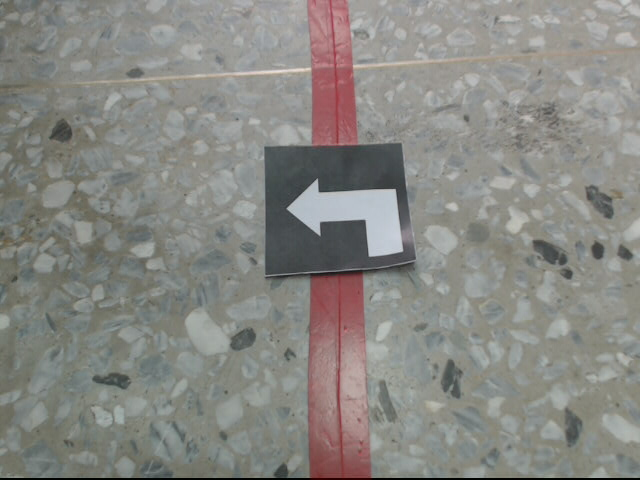left: (261, 142, 417, 278)
